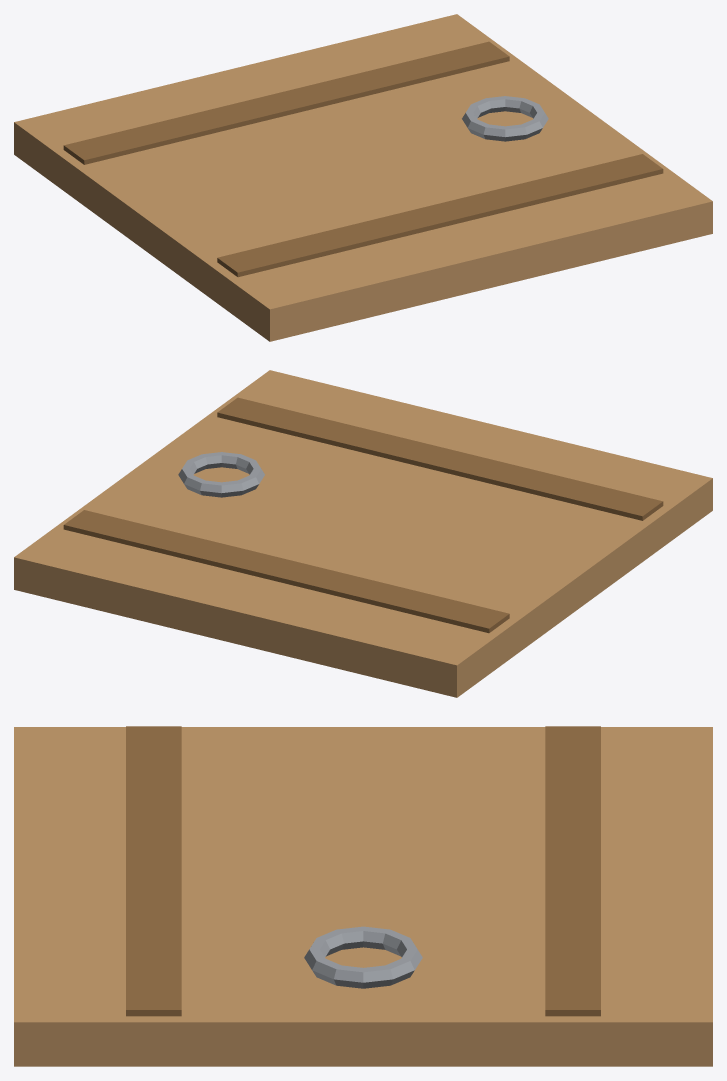
The model's file is SM_Trap_Trapdoor.fbx.
3 views of the same model, one above another, from view 1: azimuth 30°, elevation 25°; view 2: azimuth 150°, elevation 25°; view 3: azimuth 270°, elevation 25° (orthographic). The views are drawn at different scales.
Parts seen in each view (by area): view 1: SM_Trap_Trapdoor; view 2: SM_Trap_Trapdoor; view 3: SM_Trap_Trapdoor.
Boxes of the visible parts, <box> form: SM_Trap_Trapdoor: <box>14,14,712,341</box>; SM_Trap_Trapdoor: <box>14,370,712,697</box>; SM_Trap_Trapdoor: <box>14,726,712,1066</box>.
Bounding box in the file's own units: 1 × 0.101 × 1.
